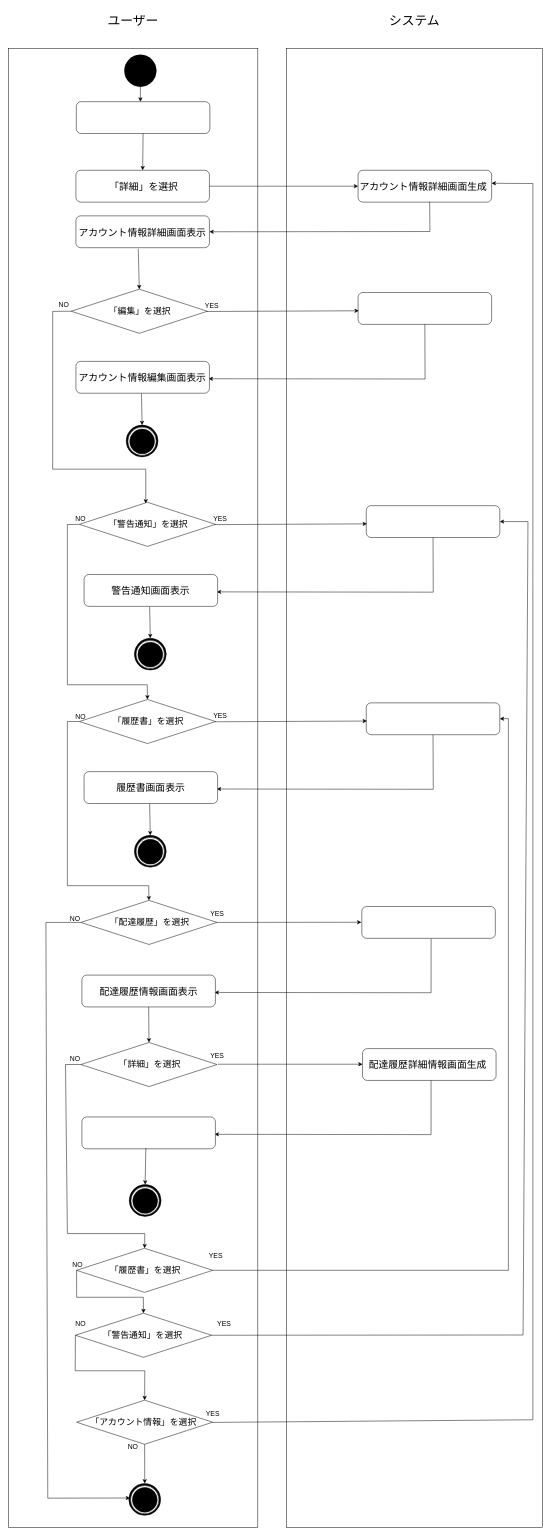
This 551x1536 diagram has some shape labels left out. Each missing label, with the centre of its shape:
アカウント情報編集画面生成: the point at 425,308
履歴書画面生成: the point at 433,718
警告通知画面生成: the point at 433,521
配達員アカウント一覧画面表示: the point at 143,117
配達履歴情報画面生成: the point at 428,922
配達履歴詳細情報画面表示: the point at 148,1132
